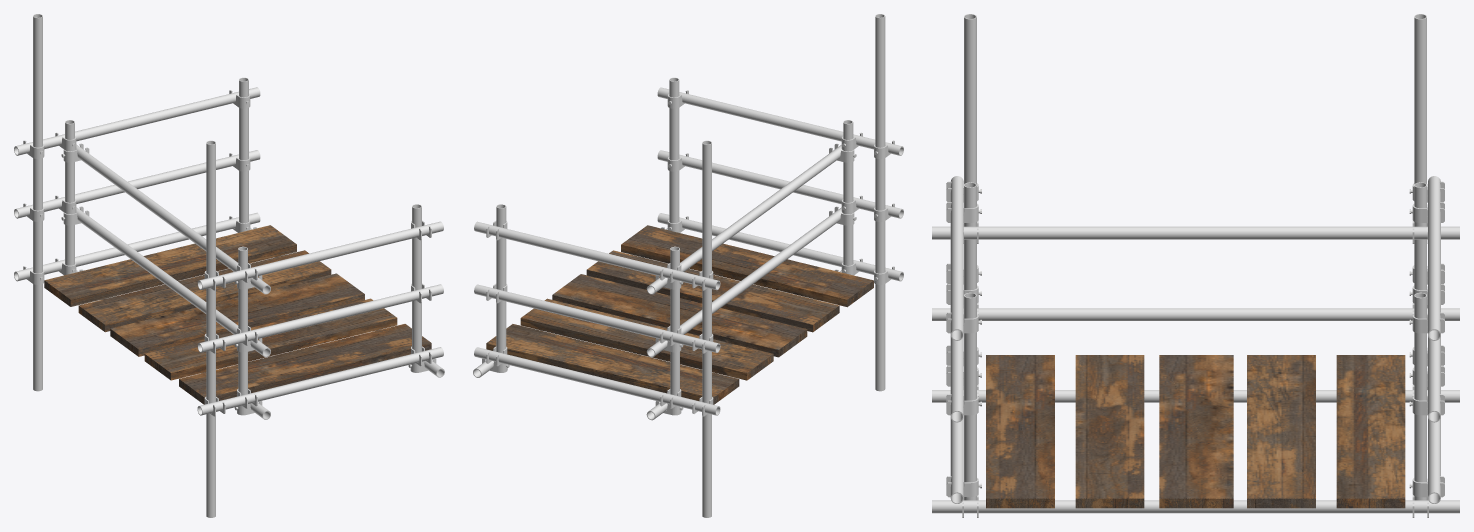
Rendered from Leseni.fbx.
3 views of the same model, side by side, from view 1: azimuth 30°, elevation 25°; view 2: azimuth 150°, elevation 25°; view 3: azimuth 270°, elevation 25° (orthographic). The views are drawn at different scales.
Visible parts, largest first — view 1: Prkna, Trubka_Bocni, Prkna_Dlouhe, Trubka_Jistici, Trubka_Svisla, Trubka_Zada, Leseni_Spojka.002, Leseni_Spojka.001, Leseni_Spojka.004, Leseni_Spojka.006, Leseni_Spojka.005; view 2: Prkna, Trubka_Bocni, Trubka_Jistici, Prkna_Dlouhe, Trubka_Svisla, Trubka_Zada, Leseni_Spojka.001, Leseni_Spojka.002, Leseni_Spojka.003, Leseni_Spojka.006; view 3: Prkna, Trubka_Zada, Prkna_Dlouhe, Trubka_Bocni, Trubka_Svisla, Trubka_Spodek, Trubka_Jistici, Leseni_Spojka.001, Leseni_Spojka.002.
Boxes of the visible parts, box(x1,y1,x2,y2) form: Prkna: box(44, 225, 431, 404); Trubka_Bocni: box(14, 87, 443, 415); Prkna_Dlouhe: box(110, 273, 364, 356); Trubka_Jistici: box(33, 14, 215, 517); Trubka_Svisla: box(65, 77, 421, 395); Trubka_Zada: box(75, 144, 270, 419); Leseni_Spojka.002: box(55, 90, 250, 275); Leseni_Spojka.001: box(237, 220, 431, 408); Leseni_Spojka.004: box(23, 140, 44, 284); Leseni_Spojka.006: box(61, 143, 89, 271); Leseni_Spojka.005: box(234, 275, 262, 415); Prkna: box(486, 225, 873, 404); Trubka_Bocni: box(474, 87, 903, 415); Trubka_Jistici: box(702, 14, 885, 517); Prkna_Dlouhe: box(552, 274, 807, 357); Trubka_Svisla: box(496, 77, 853, 395); Trubka_Zada: box(646, 145, 842, 420); Leseni_Spojka.001: box(667, 90, 862, 275); Leseni_Spojka.002: box(486, 220, 681, 408); Leseni_Spojka.003: box(874, 140, 894, 284); Leseni_Spojka.006: box(655, 275, 683, 415); Prkna: box(986, 355, 1405, 508); Trubka_Zada: box(932, 226, 1459, 402); Prkna_Dlouhe: box(1159, 355, 1233, 508); Trubka_Bocni: box(950, 176, 1440, 503); Trubka_Svisla: box(964, 182, 1426, 500); Trubka_Spodek: box(932, 500, 1459, 513); Trubka_Jistici: box(964, 14, 1426, 184); Leseni_Spojka.001: box(946, 202, 981, 497); Leseni_Spojka.002: box(1409, 202, 1444, 497).
Size of the model in its own units: 170 by 250 by 246.
